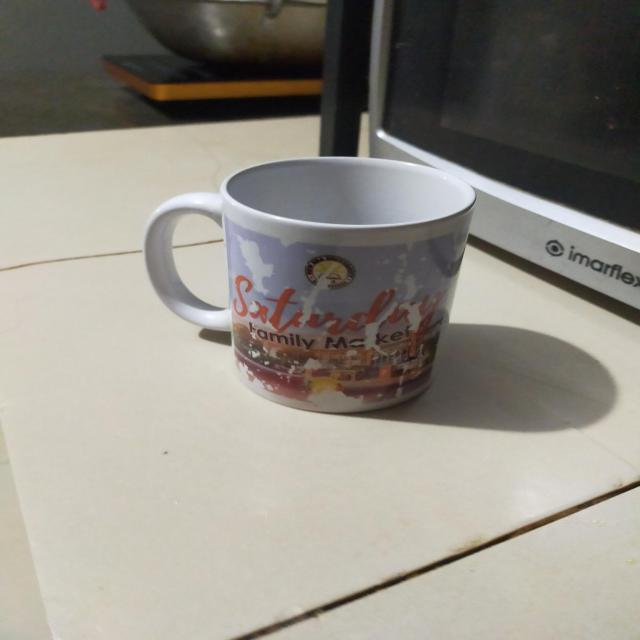taza: (140, 158, 487, 414)
